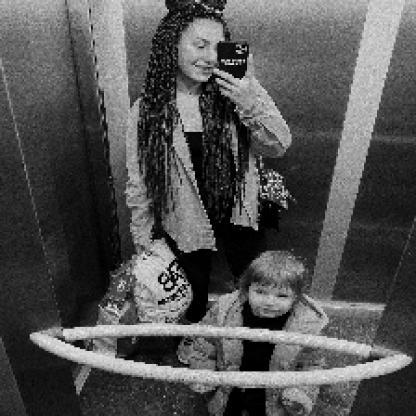child: (189, 250, 334, 415)
